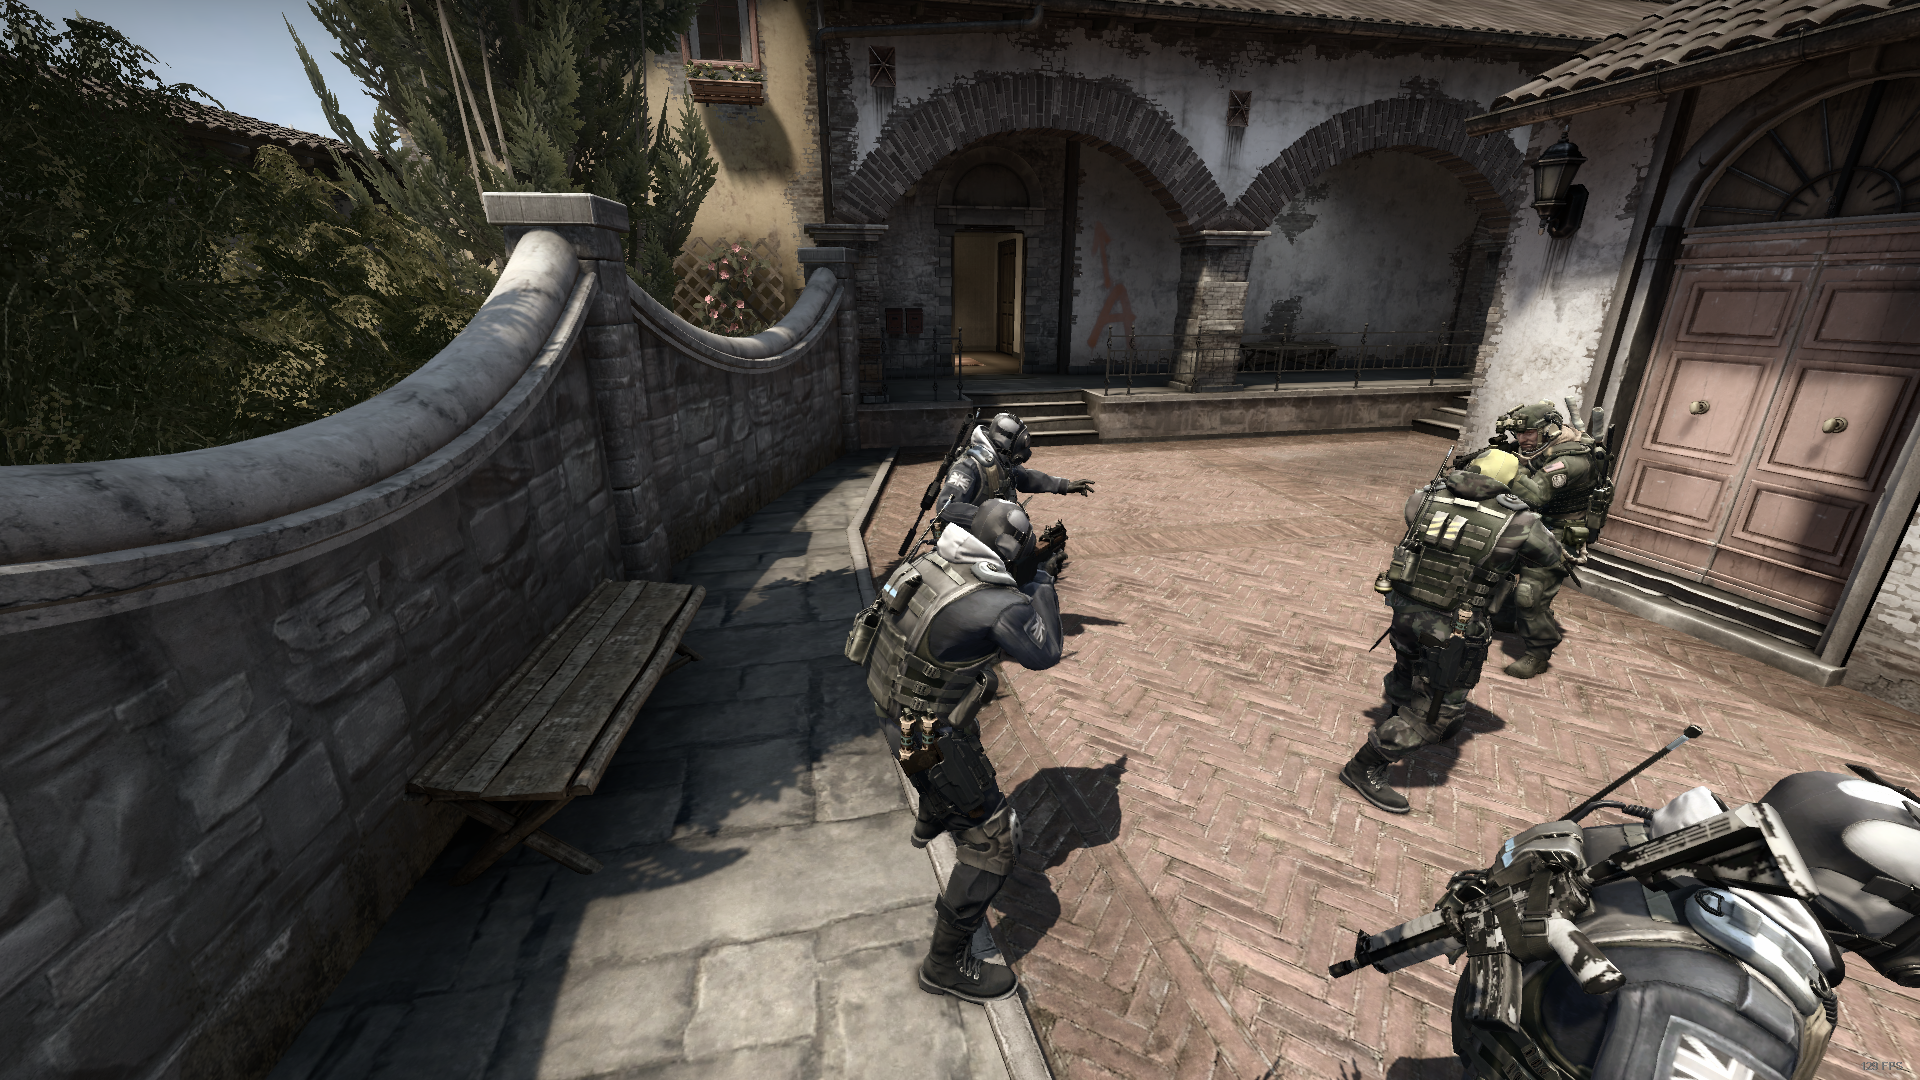ct: (1431, 750, 1917, 1080), (843, 497, 1081, 1021)
